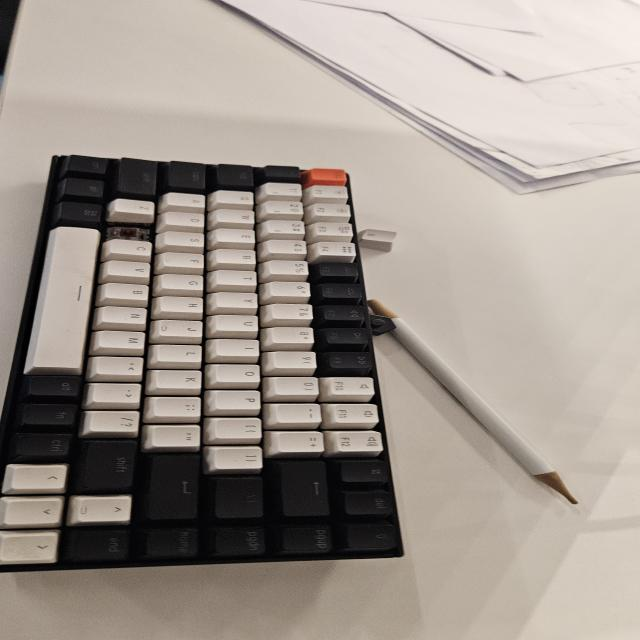C: (107, 224, 147, 242)
